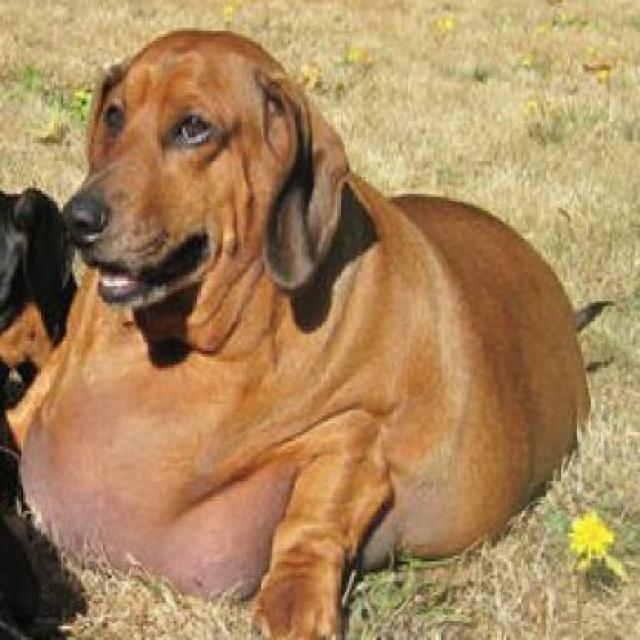Dog: (17, 28, 617, 637)
